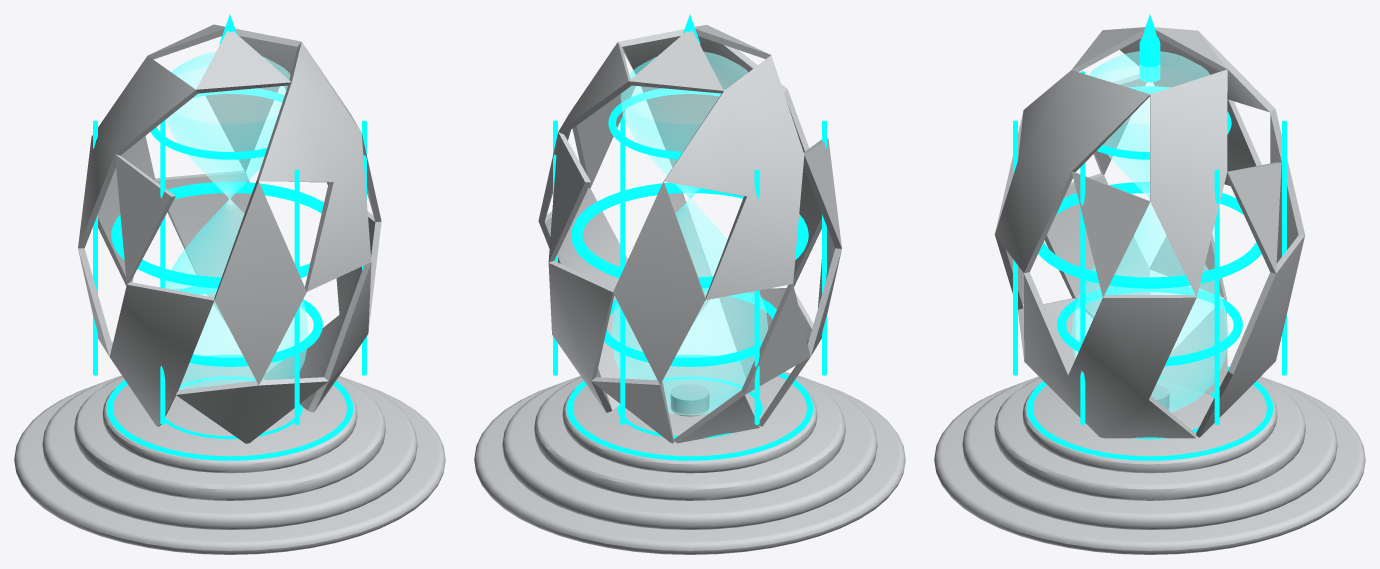
Rendered from azure_resonance_core.glb.
The picture shows the model from 3 angles, left to right: view 1: azimuth 30°, elevation 25°; view 2: azimuth 150°, elevation 25°; view 3: azimuth 270°, elevation 25°; orthographic projection.
Parts seen in each view (by area): view 1: AzureResonanceCore; view 2: AzureResonanceCore; view 3: AzureResonanceCore.
Part boxes in pixels (<box>): AzureResonanceCore: <box>14,14,445,554</box>; AzureResonanceCore: <box>474,14,905,554</box>; AzureResonanceCore: <box>934,14,1365,554</box>.
Bounding box in the file's own units: 2.44 × 2.82 × 2.44.
